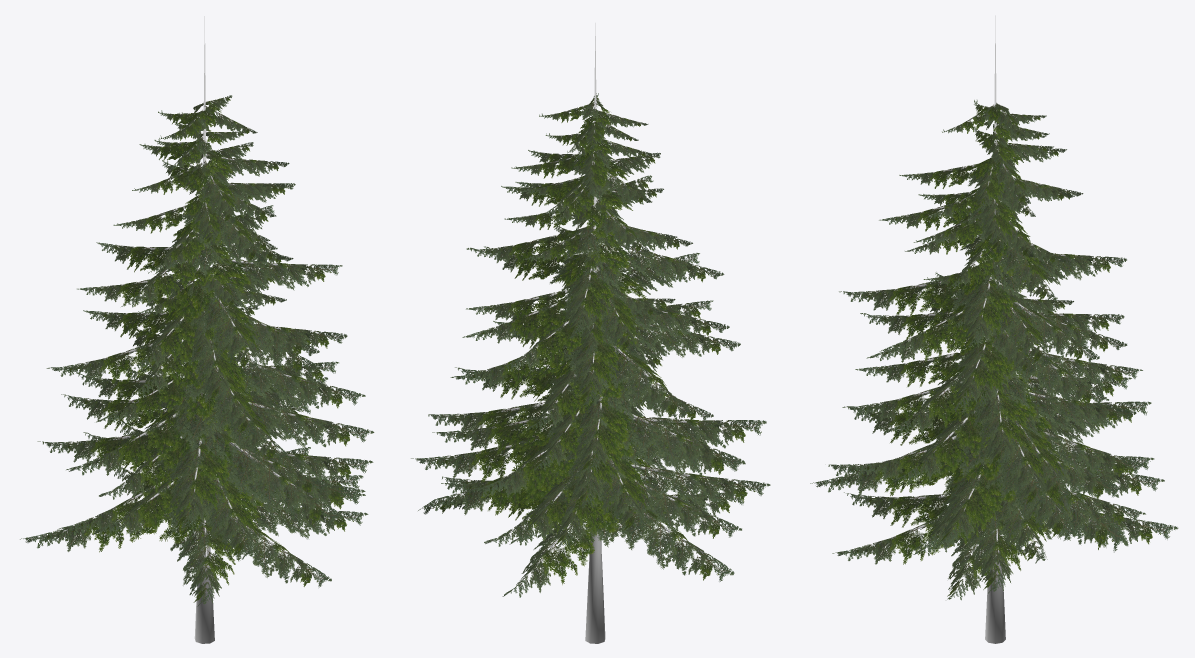
Rendered from Tree2.008.fbx.
The picture shows the model from 3 angles, left to right: view 1: azimuth 30°, elevation 25°; view 2: azimuth 150°, elevation 25°; view 3: azimuth 270°, elevation 25°; orthographic projection.
Parts seen in each view (by area): view 1: Tree2.008; view 2: Tree2.008; view 3: Tree2.008.
Boxes of the visible parts, box(x1,y1,x2,y2) form: Tree2.008: box(20, 16, 374, 643); Tree2.008: box(411, 23, 770, 643); Tree2.008: box(810, 15, 1178, 643).
Bounding box in the file's own units: 1.86 × 3.4 × 1.85.
